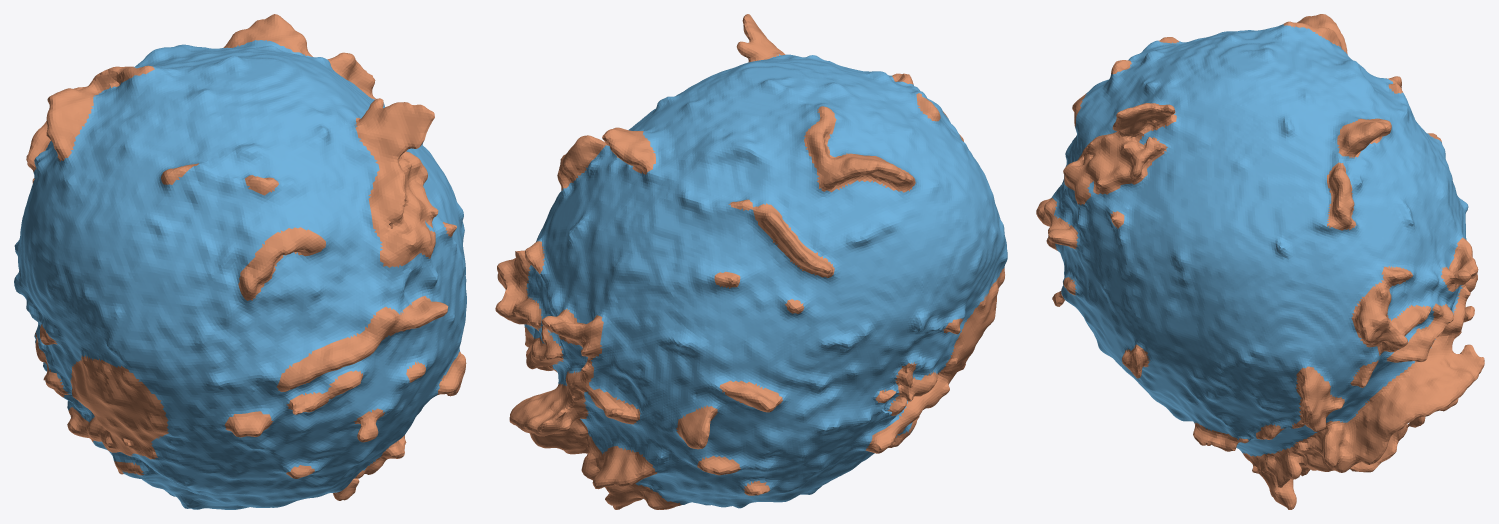
The picture shows the model from 3 angles, left to right: view 1: azimuth 30°, elevation 25°; view 2: azimuth 150°, elevation 25°; view 3: azimuth 270°, elevation 25°; orthographic projection. The views are drawn at different scales.
Bounding box in the file's own units: 128 × 132 × 133.
